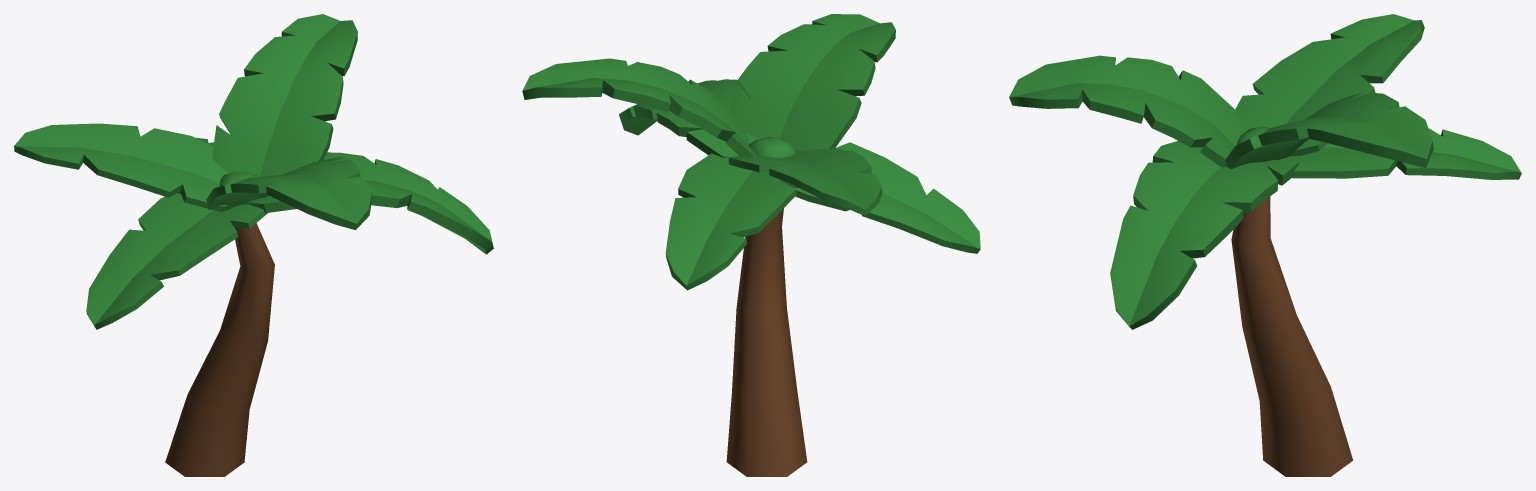
File: GEO_PalmTree_C.glb
3 renders of one model, left to right at view 1: azimuth 30°, elevation 25°; view 2: azimuth 150°, elevation 25°; view 3: azimuth 270°, elevation 25°, orthographic. The views are drawn at different scales.
Visible parts, largest first — view 1: GEO_PalmTree_C; view 2: GEO_PalmTree_C; view 3: GEO_PalmTree_C.
Part boxes in pixels (box(x1,y1,x2,y2)): GEO_PalmTree_C: box(14, 14, 493, 476); GEO_PalmTree_C: box(522, 14, 980, 476); GEO_PalmTree_C: box(1009, 14, 1521, 476).
Size of the model in its own units: 3.51 by 3.32 by 3.66.
